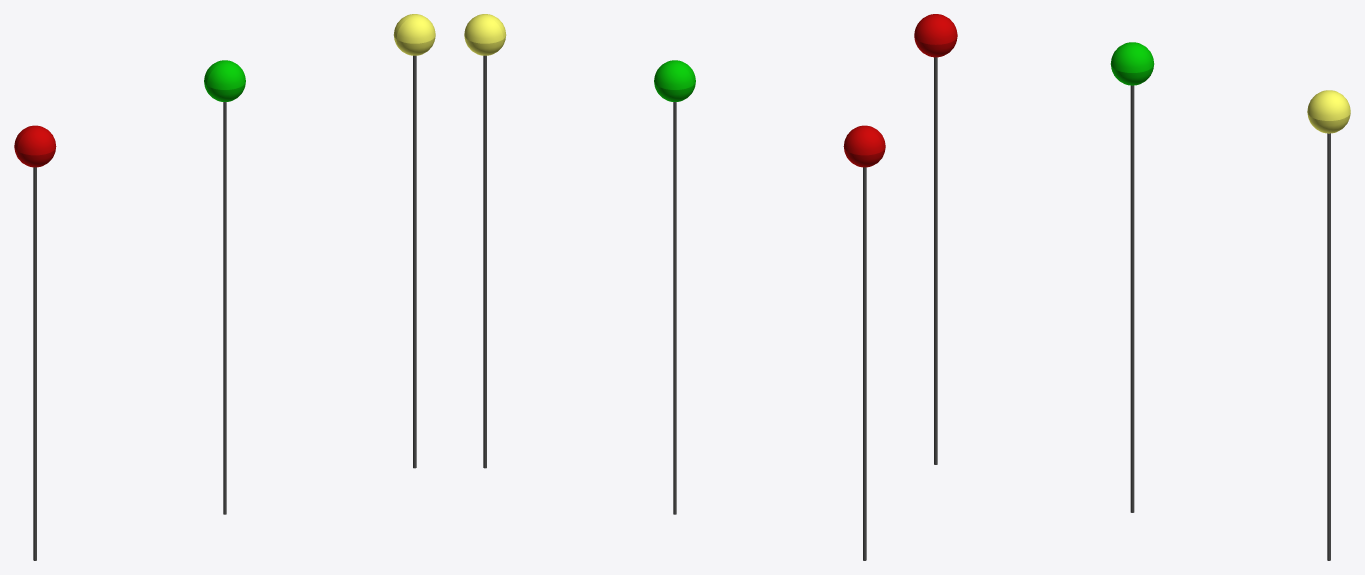
File: buoys.dae
3 views of the same model, side by side, from view 1: azimuth 30°, elevation 25°; view 2: azimuth 150°, elevation 25°; view 3: azimuth 330°, elevation 25° (orthographic). The views are drawn at different scales.
Parts seen in each view (by area): view 1: SketchUp (×6); view 2: SketchUp (×6); view 3: SketchUp (×6).
Boxes of the visible parts, x1,y1,x2,y2 form: SketchUp (×6): (14, 14, 435, 560); SketchUp (×6): (464, 14, 885, 560); SketchUp (×6): (914, 14, 1350, 560).
Bounding box in the file's own units: 104 × 9.06 × 107.
